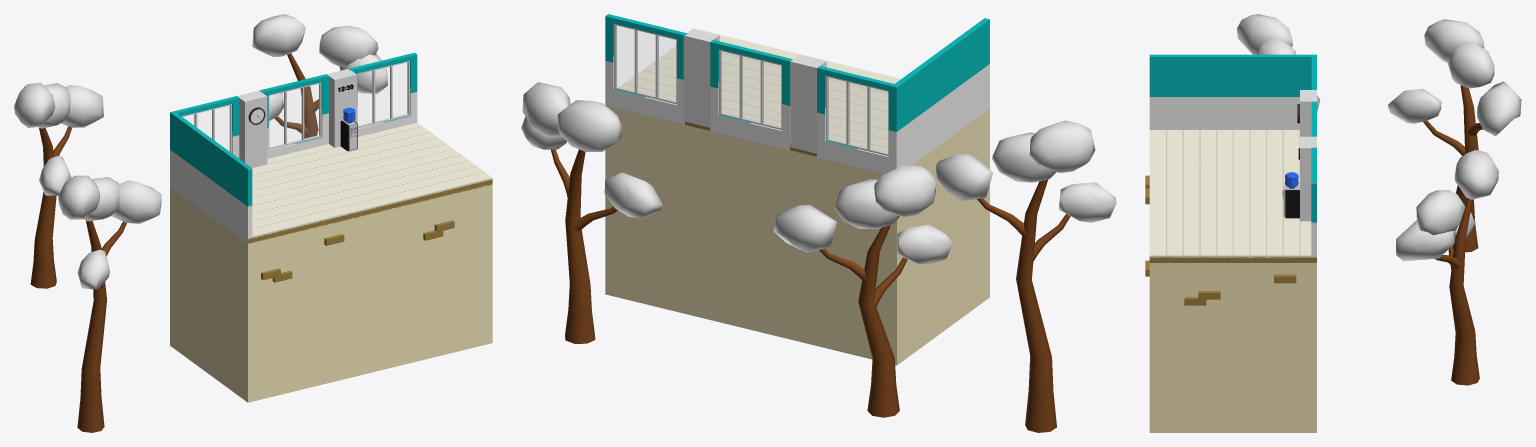
Rendered from gym.FBX.
The picture shows the model from 3 angles, left to right: view 1: azimuth 30°, elevation 25°; view 2: azimuth 150°, elevation 25°; view 3: azimuth 270°, elevation 25°; orthographic projection. The views are drawn at different scales.
Visible parts, largest first — view 1: Box350, Box341, Box262, Cylinder247, Plane005, Plane006, Cylinder177, Box270, Sphere024, Sphere022, Box296, Sphere028 (+16 smaller); view 2: Box350, Box341, Box262, Cylinder247, Cylinder177, Cylinder180, Box296, Box263, Plane005, Plane006, Plane004, Box299 (+17 smaller); view 3: Box350, Box341, Box262, Cylinder180, Sphere024, Sphere020, Sphere022, Sphere017, Sphere021, Sphere018, Sphere029, Sphere019 (+7 smaller).
Boxes of the visible parts, bbox=[...] form: Box350: bbox=[170, 184, 492, 402]; Box341: bbox=[248, 122, 492, 239]; Box262: bbox=[170, 112, 252, 243]; Cylinder247: bbox=[77, 220, 106, 432]; Plane005: bbox=[270, 84, 318, 146]; Plane006: bbox=[358, 63, 407, 125]; Cylinder177: bbox=[30, 127, 56, 288]; Box270: bbox=[237, 90, 267, 167]; Sphere024: bbox=[319, 25, 378, 66]; Sphere022: bbox=[252, 14, 305, 57]; Box296: bbox=[259, 74, 328, 158]; Sphere028: bbox=[111, 180, 161, 223]; Box350: bbox=[605, 105, 989, 365]; Box341: bbox=[619, 29, 900, 152]; Box262: bbox=[891, 18, 989, 170]; Cylinder247: bbox=[1016, 179, 1056, 432]; Cylinder177: bbox=[858, 225, 899, 417]; Cylinder180: bbox=[565, 149, 595, 343]; Box296: bbox=[710, 40, 792, 150]; Box263: bbox=[817, 66, 899, 173]; Plane005: bbox=[721, 51, 780, 127]; Plane006: bbox=[616, 26, 675, 101]; Plane004: bbox=[828, 78, 887, 153]; Box299: bbox=[605, 14, 687, 124]; Box350: bbox=[1149, 263, 1316, 432]; Box341: bbox=[1149, 130, 1316, 258]; Box262: bbox=[1149, 54, 1311, 129]; Cylinder180: bbox=[1449, 198, 1479, 385]; Sphere024: bbox=[1416, 190, 1465, 235]; Sphere020: bbox=[1447, 42, 1494, 88]; Sphere022: bbox=[1454, 150, 1498, 199]; Sphere017: bbox=[1477, 81, 1521, 136]; Sphere021: bbox=[1396, 220, 1454, 261]; Sphere018: bbox=[1424, 19, 1484, 62]; Sphere029: bbox=[1237, 14, 1292, 54]; Sphere019: bbox=[1388, 89, 1441, 123].
Size of the model in its own units: 1833 by 1208 by 1396.
